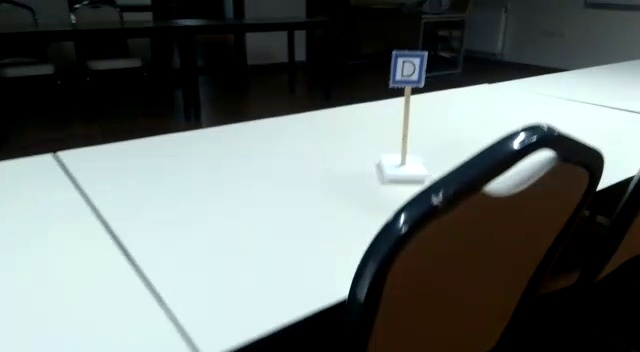durak: (390, 52, 425, 87)
